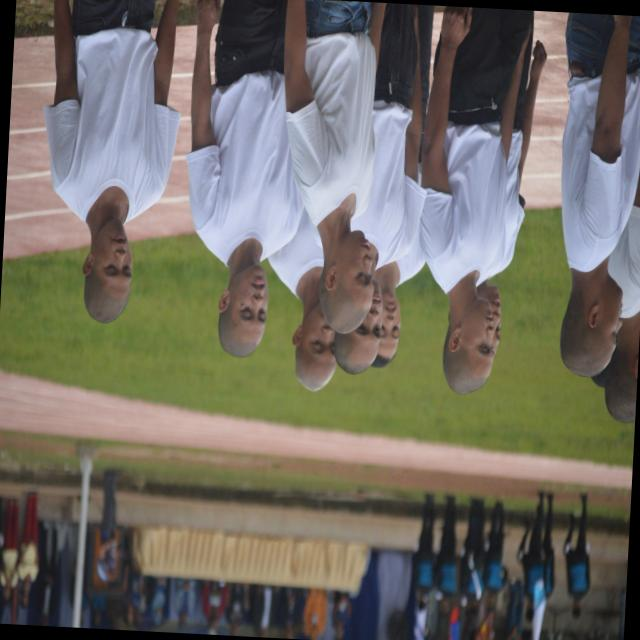person: (45, 0, 180, 321), (420, 6, 531, 393), (186, 0, 303, 356), (285, 0, 385, 331), (561, 13, 639, 375), (477, 16, 546, 351), (352, 3, 425, 268), (269, 209, 336, 390), (597, 176, 639, 421), (459, 498, 489, 616), (564, 493, 590, 618), (523, 491, 545, 621), (418, 5, 434, 179), (484, 501, 508, 609), (436, 495, 457, 613), (413, 493, 434, 609), (97, 469, 118, 581), (18, 492, 39, 596), (37, 524, 58, 625), (0, 499, 19, 600), (251, 584, 279, 637), (202, 580, 228, 634), (171, 578, 197, 632), (303, 588, 328, 639), (225, 582, 249, 635), (506, 580, 523, 639), (332, 590, 351, 639), (0, 497, 2, 531)
